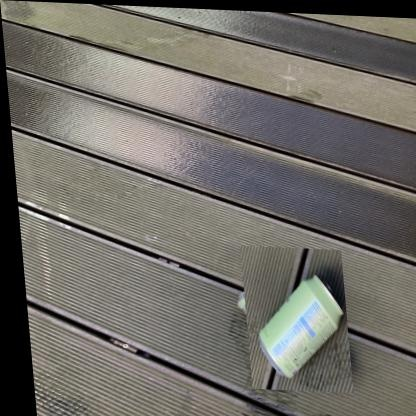trash: (259, 276, 342, 377)
